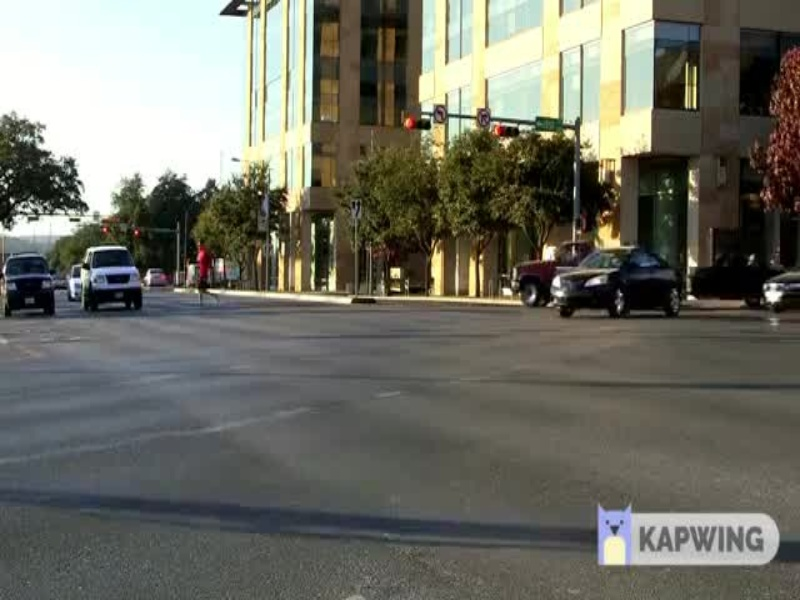car: (549, 242, 687, 325), (73, 240, 151, 314), (1, 250, 63, 319)
